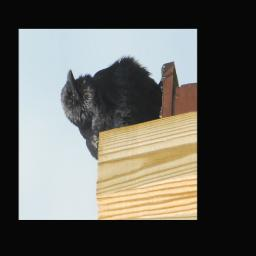Crow: (58, 48, 170, 164)
